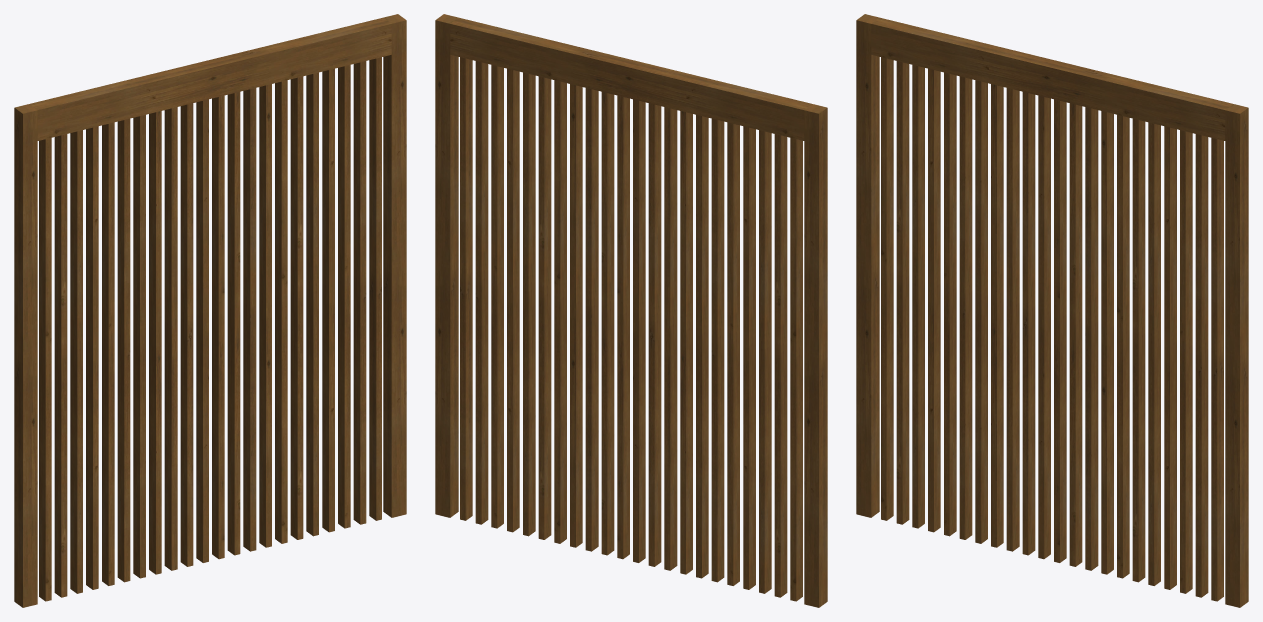
Rendered from 2400-1950_naturalpine.fbx.
The picture shows the model from 3 angles, left to right: view 1: azimuth 30°, elevation 25°; view 2: azimuth 150°, elevation 25°; view 3: azimuth 330°, elevation 25°; orthographic projection.
Parts seen in each view (by area): view 1: 2400-1950_naturalpine; view 2: 2400-1950_naturalpine; view 3: 2400-1950_naturalpine.
Part boxes in pixels (x1,y1,x2,y2): 2400-1950_naturalpine: [14, 14, 406, 607]; 2400-1950_naturalpine: [435, 14, 827, 607]; 2400-1950_naturalpine: [856, 14, 1248, 607].
Bounding box in the file's own units: 195 × 240 × 7.5.
1 material, 1 textured.
